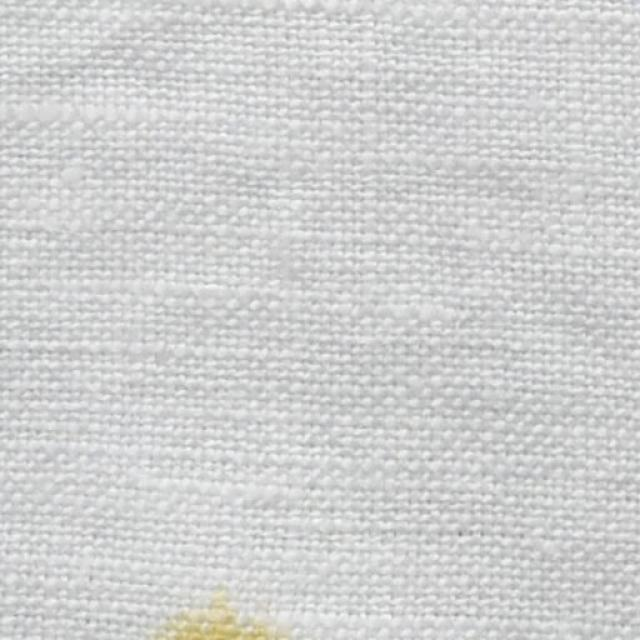Stain: (149, 590, 292, 640)
